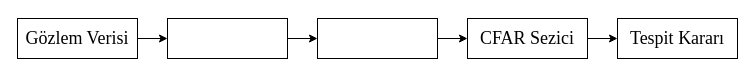
Some shapes in this 755 by 77 pixel diagram are drawn without their labels. The centre of each missing label's shape, as x and y in pixels:
"Güç Entegrasyonu" belongs at (377,38).
"MTI Süzgeci" belongs at (227,38).
